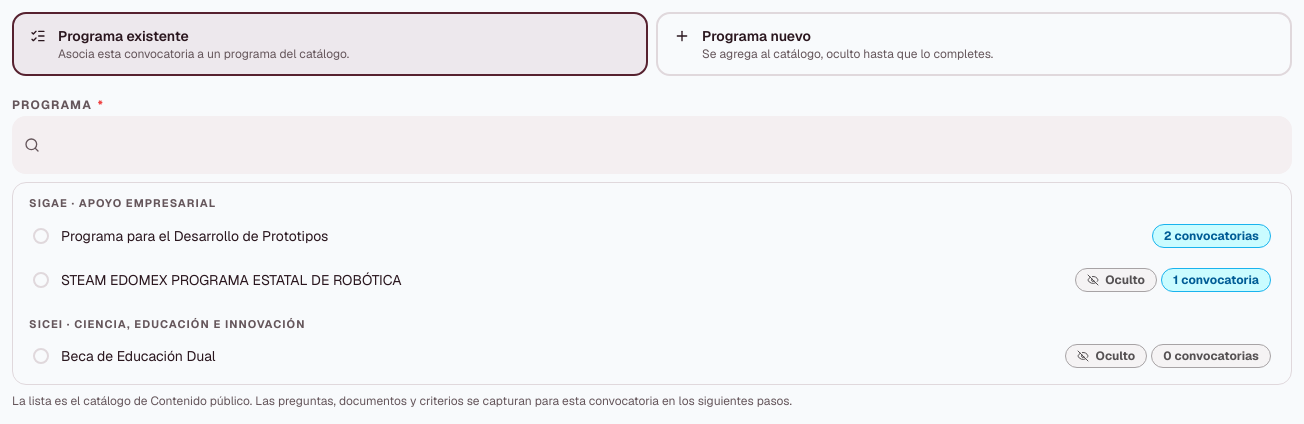
Test case: SelectorPrograma (E54) › el buscador ignora acentos y mayúsculas
Type "robotica" into the search field labelled "Programa *" at (652, 145), box [12,116,1292,174]
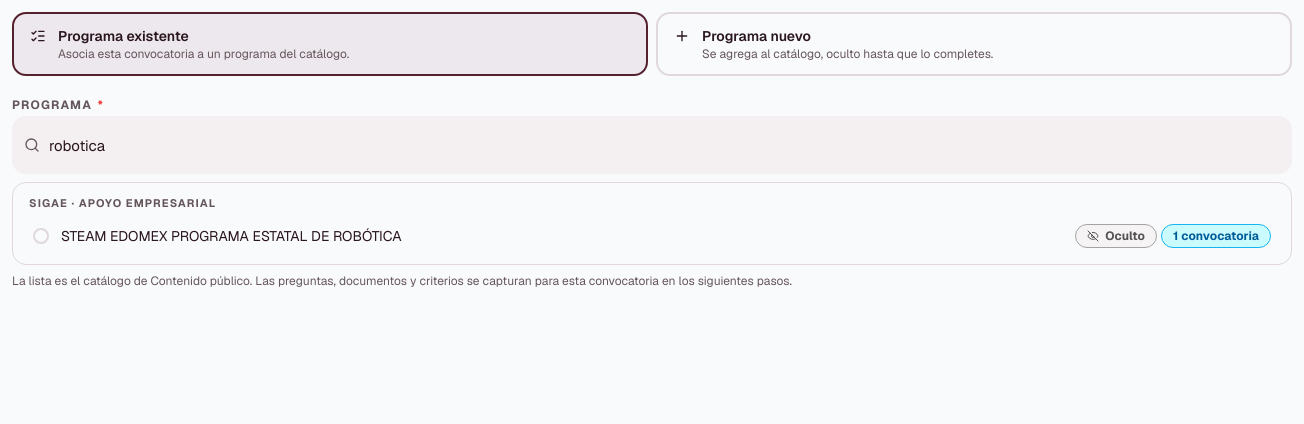
Check: the radio button labelled "STEAM EDOMEX" is shown, box [21,216,1283,256]
Check: the radio button labelled "Prototipos" is gone
